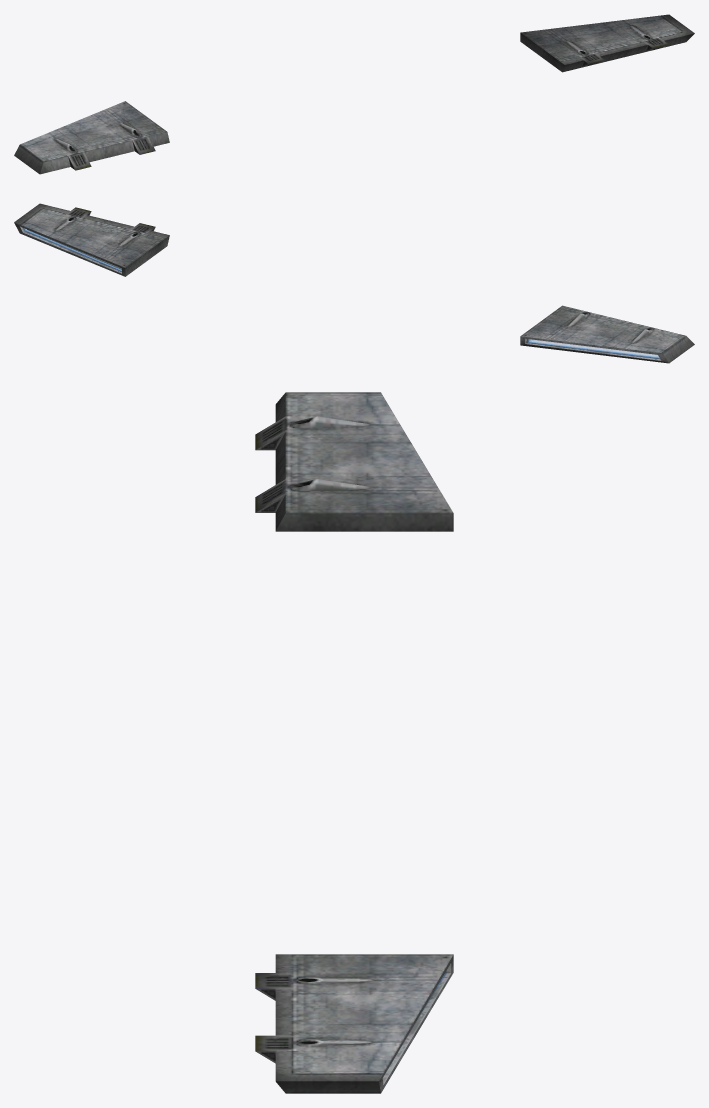
Rendered from xwing_booster_pos_s02_l0.fbx.
3 views of the same model, one above another, from view 1: azimuth 30°, elevation 25°; view 2: azimuth 150°, elevation 25°; view 3: azimuth 270°, elevation 25° (orthographic). The views are drawn at different scales.
Parts seen in each view (by area): view 1: mesh_node; view 2: mesh_node; view 3: mesh_node.
Part boxes in pixels (x1,y1,x2,y2): mesh_node: (14,14,694,174); mesh_node: (14,203,694,363); mesh_node: (255,392,453,1093).
Bounding box in the file's own units: 10.21 × 0.6745 × 1.34.
Materials: 1 (1 with a texture image).
